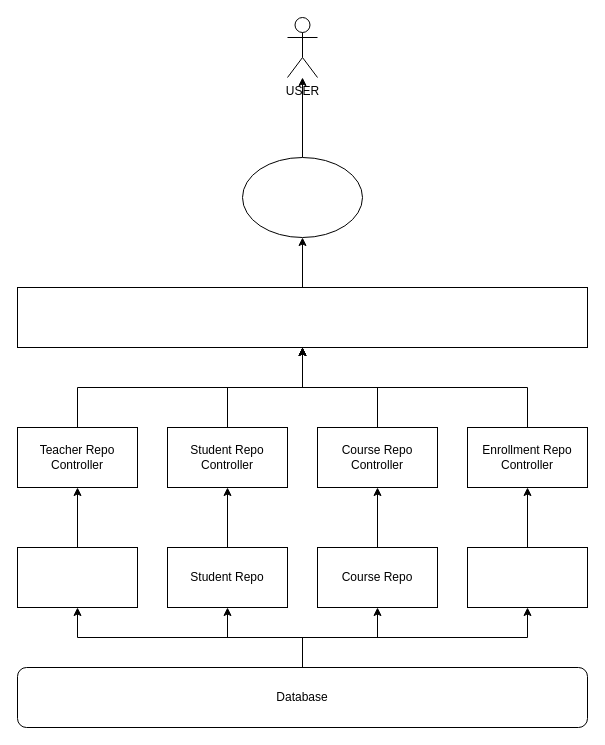
Some shapes in this 605 by 745 pixel diagram are drawn without their labels. The centre of each missing label's shape, as x and y in pixels:
Enrollment Repo: (527,577)
Registration System Controller: (302,317)
Teacher Repo: (77,577)
UI: (302,197)
